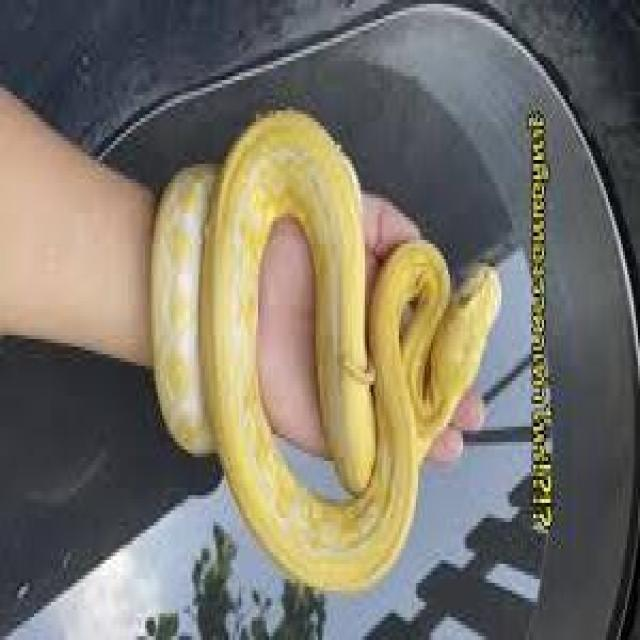Non-Venomous: (436, 248, 502, 412)
